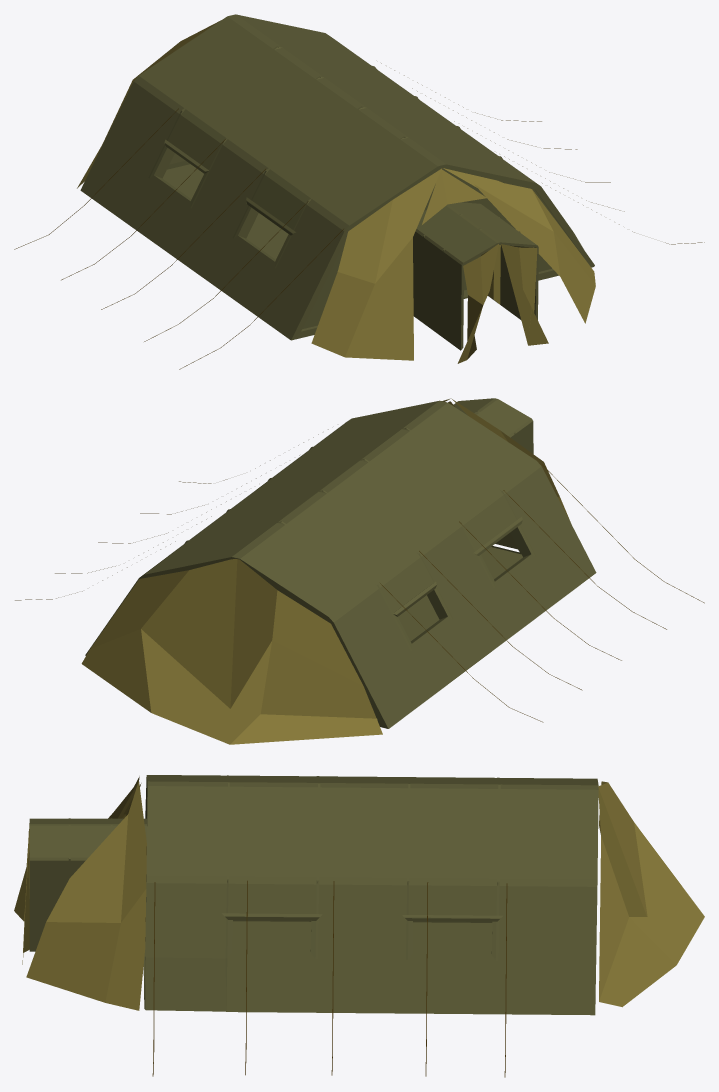
The model's file is military BASE.fbx.
3 renders of one model, top to bottom at view 1: azimuth 30°, elevation 25°; view 2: azimuth 150°, elevation 25°; view 3: azimuth 270°, elevation 25°, orthographic. The views are drawn at different scales.
Visible parts, largest first — view 1: base; view 2: base; view 3: base.
Part boxes in pixels (x1=…): base: x1=14, y1=14, x2=704, y2=369; base: x1=15, y1=398, x2=704, y2=744; base: x1=14, y1=775, x2=704, y2=1077.
Size of the model in its own units: 3837 by 1025 by 4029.
